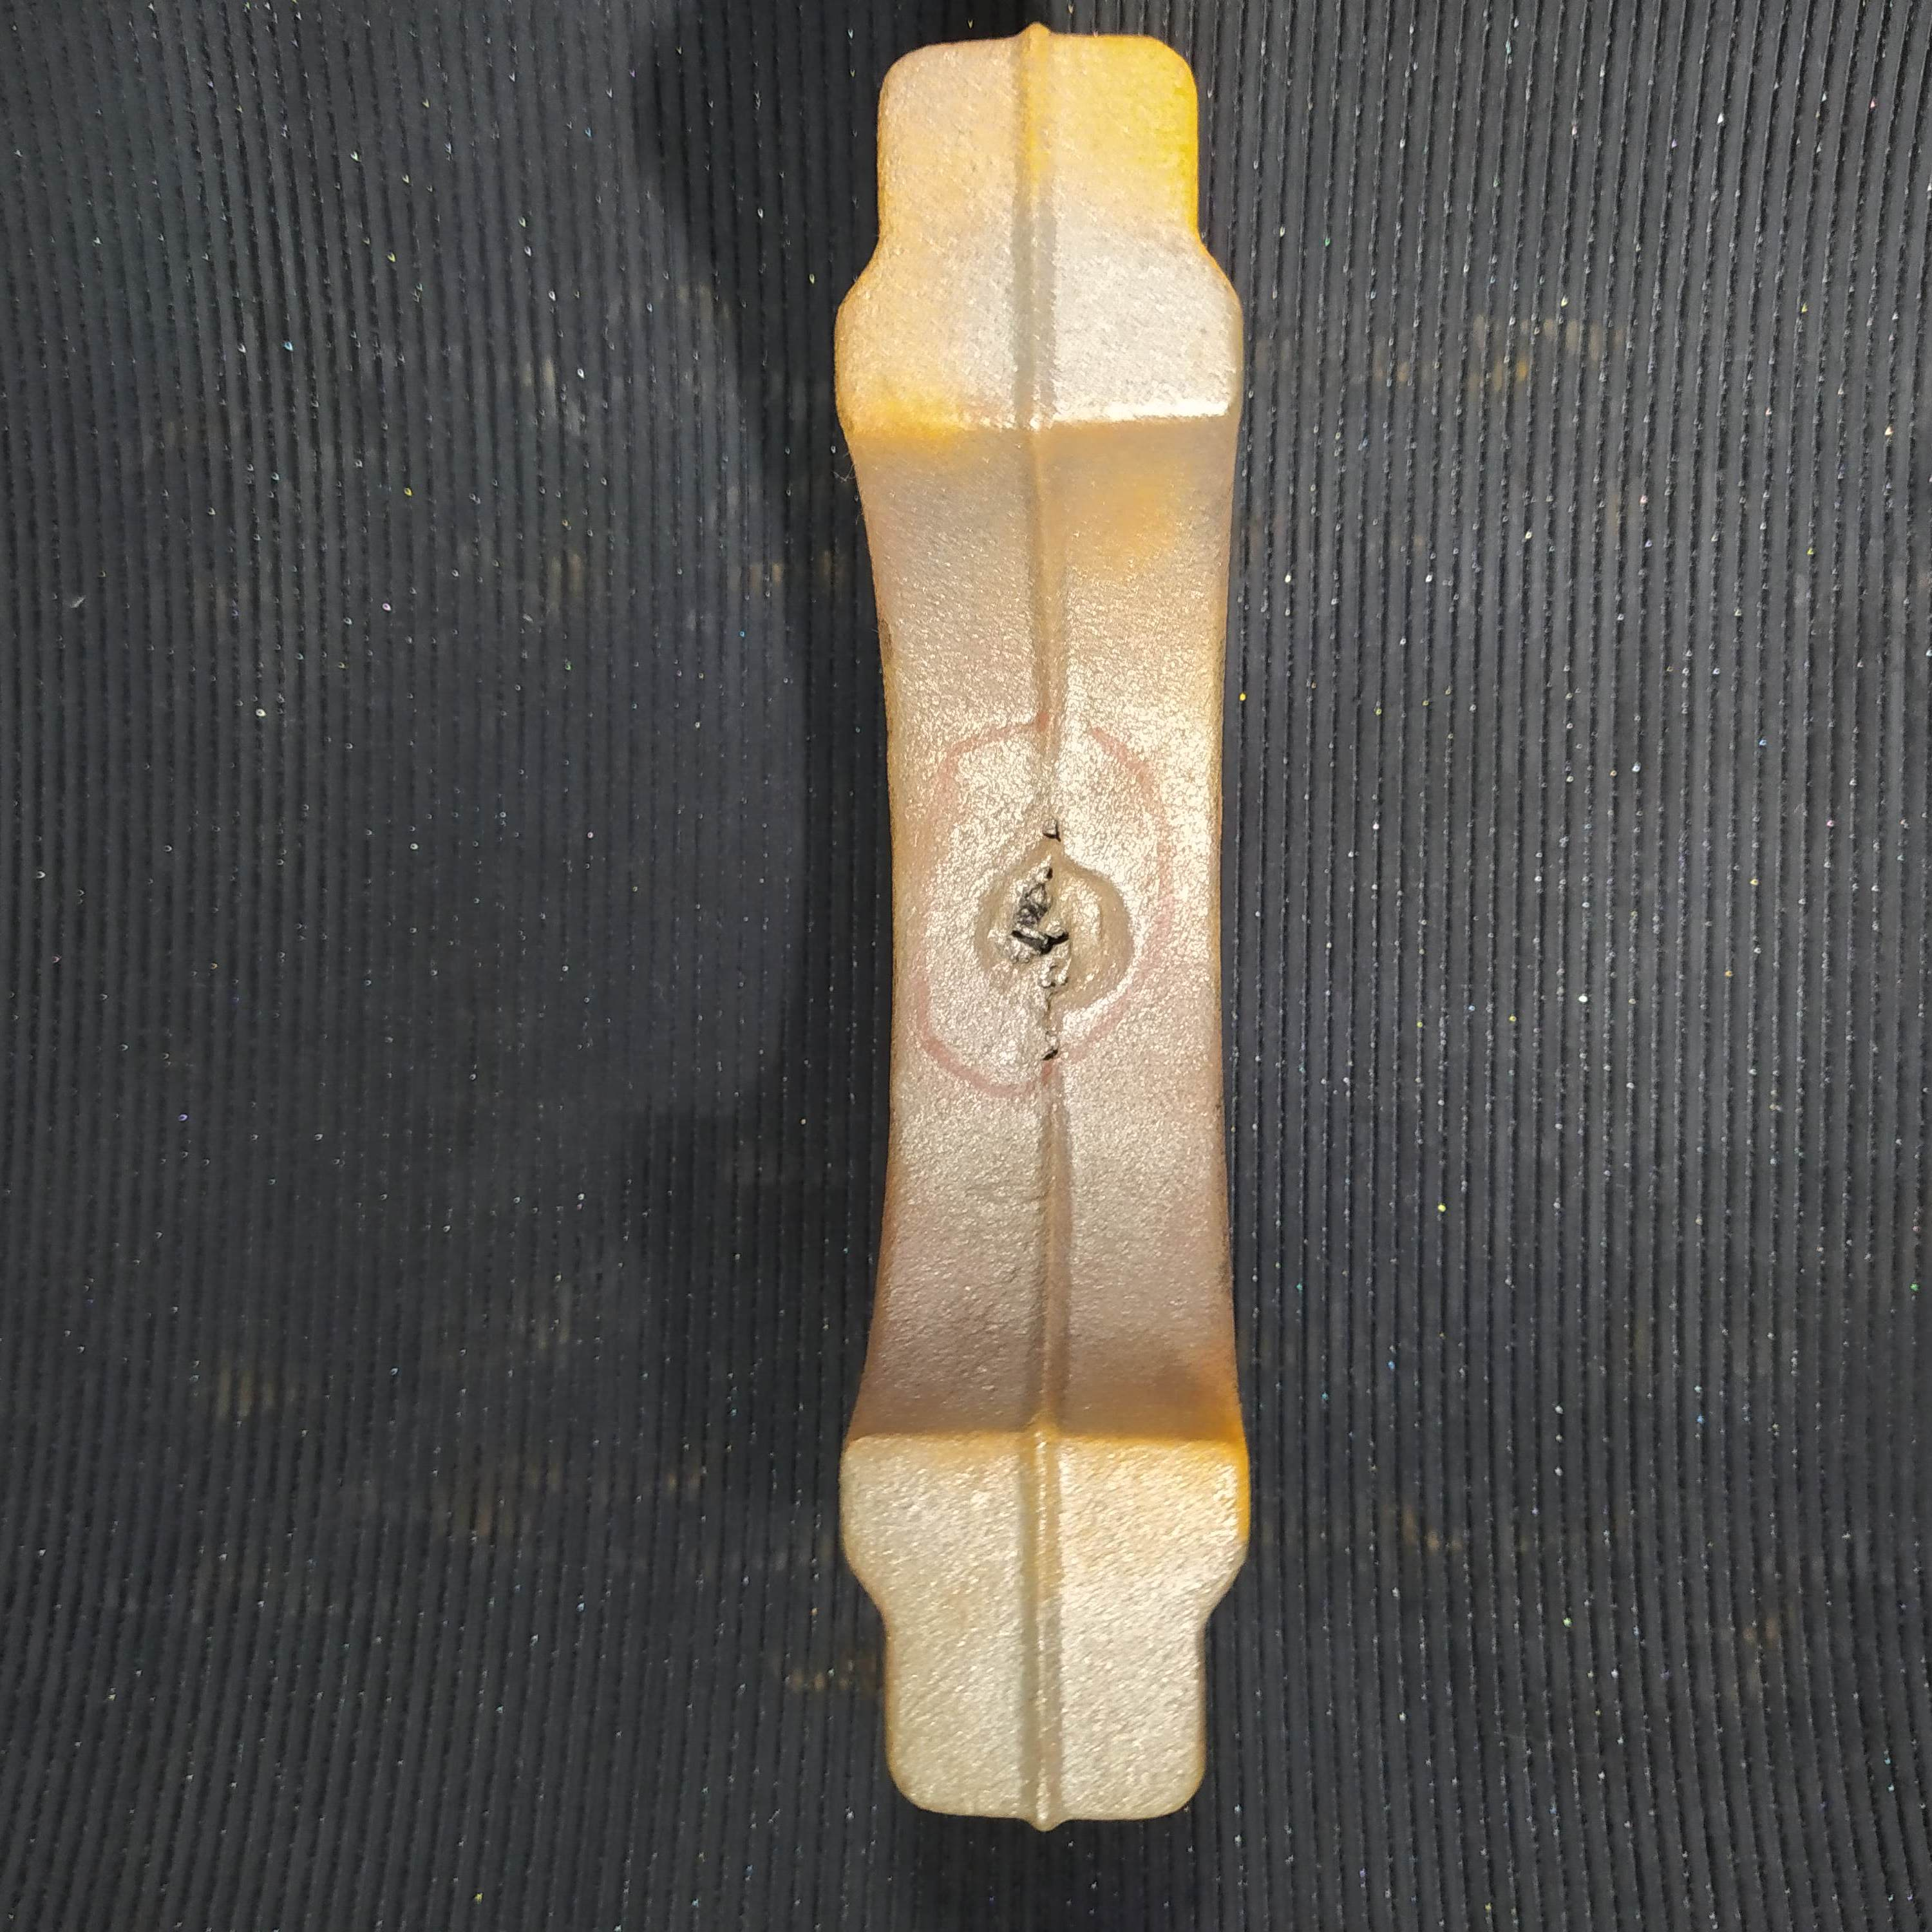buraco: (1019, 865, 1077, 957), (1039, 1039, 1069, 1069), (1039, 819, 1069, 846)
